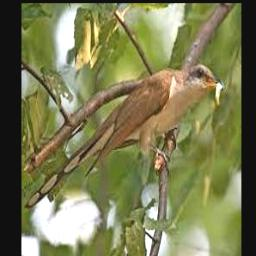Cuckoo: (24, 64, 224, 209)
